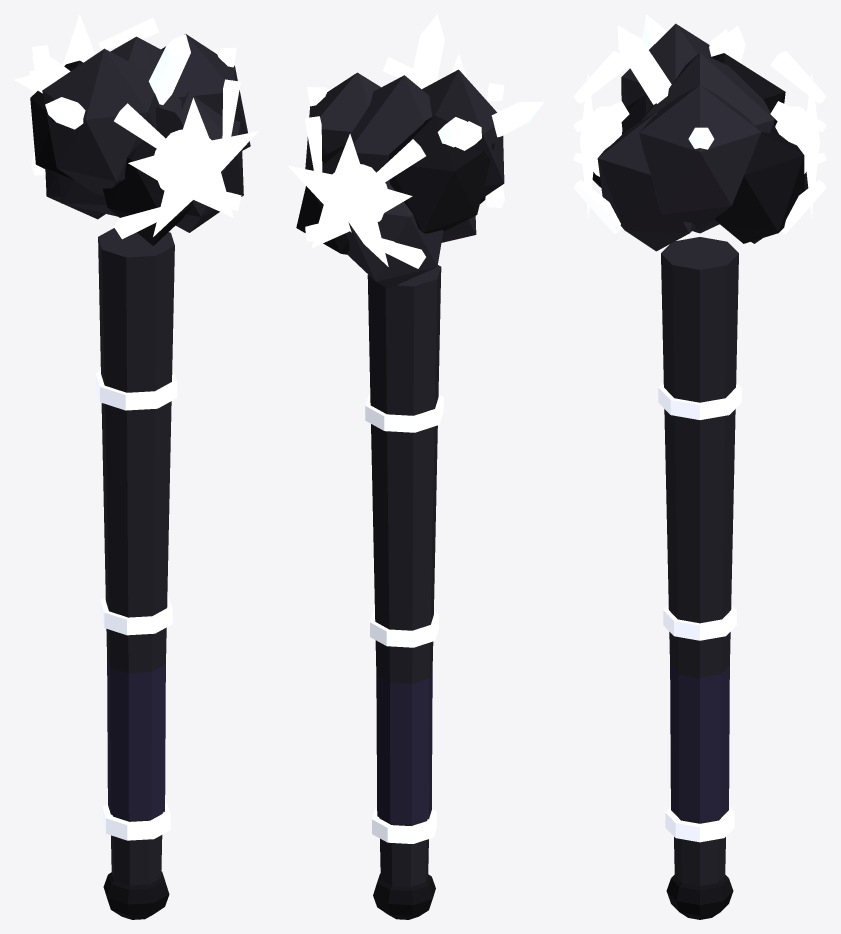
File: star_giant_club.glb
3 views of the same model, side by side, from view 1: azimuth 30°, elevation 25°; view 2: azimuth 150°, elevation 25°; view 3: azimuth 270°, elevation 25° (orthographic). The views are drawn at different scales.
Parts seen in each view (by area): view 1: star_giant_club; view 2: star_giant_club; view 3: star_giant_club.
Part boxes in pixels (bbox=[...]): star_giant_club: bbox=[14, 14, 258, 919]; star_giant_club: bbox=[288, 14, 543, 919]; star_giant_club: bbox=[573, 14, 826, 919].
Size of the model in its own units: 0.4472 by 1.77 by 0.4541.
